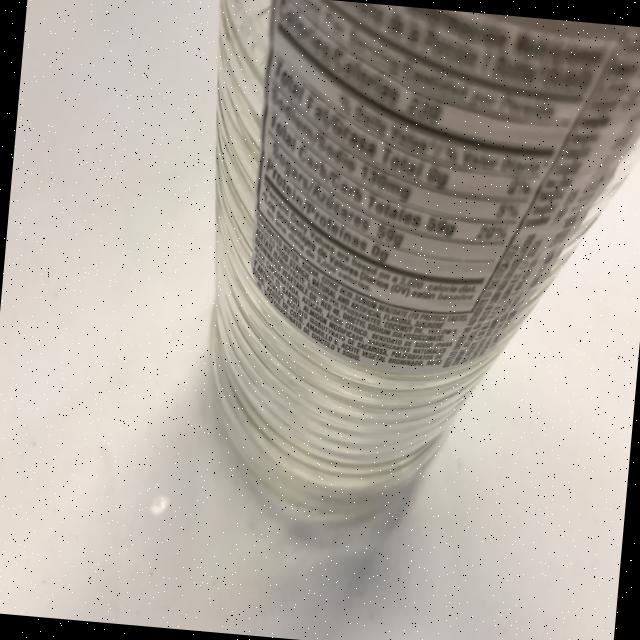glass: (144, 0, 640, 592)
